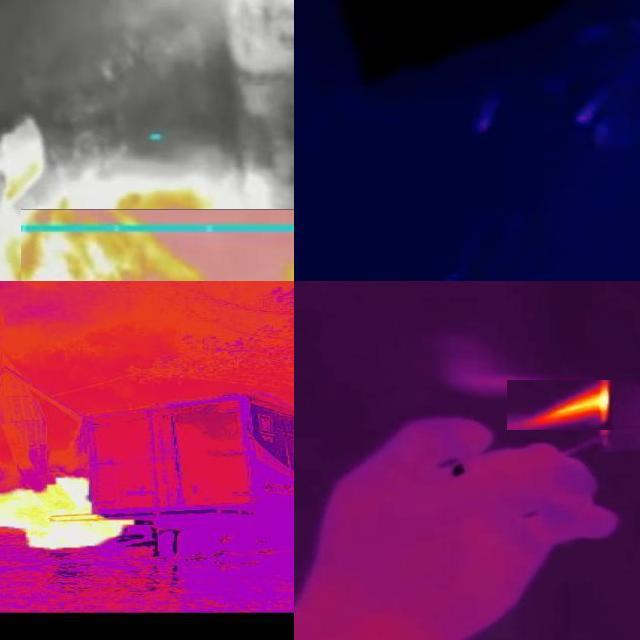fire: (1, 427, 165, 569), (22, 209, 295, 282), (508, 380, 614, 430)
